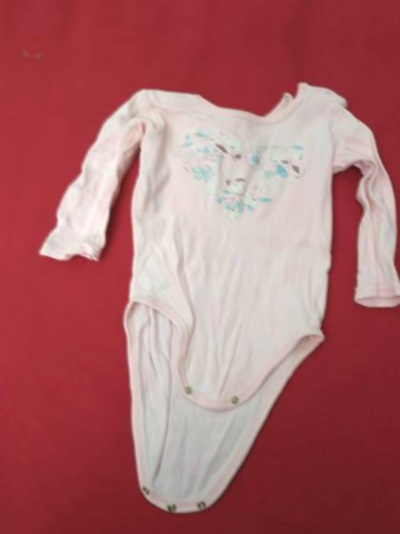Body: (0, 39, 400, 528), (0, 0, 20, 477), (385, 88, 400, 534), (56, 0, 400, 17)
